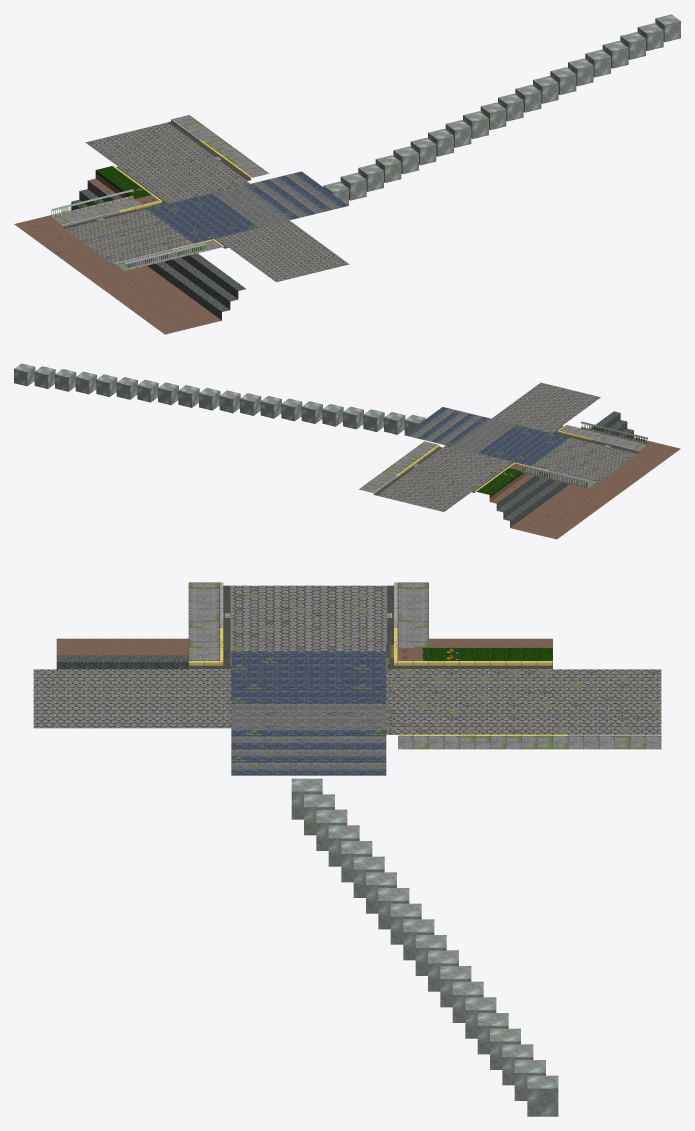
The picture shows the model from 3 angles, top to bottom: view 1: azimuth 30°, elevation 25°; view 2: azimuth 150°, elevation 25°; view 3: azimuth 270°, elevation 25°; orthographic projection. The views are drawn at different scales.
Visible parts, largest first — view 1: fance_Plane.000, Cube; view 2: fance_Plane.000, Cube; view 3: fance_Plane.000, Cube.
Boxes of the visible parts, bbox=[...] form: fance_Plane.000: bbox=[14, 115, 349, 334]; Cube: bbox=[323, 14, 680, 205]; fance_Plane.000: bbox=[359, 382, 680, 539]; Cube: bbox=[14, 363, 425, 434]; fance_Plane.000: bbox=[33, 582, 661, 775]; Cube: bbox=[291, 778, 558, 1116].
Size of the model in its own units: 242 by 16.76 by 122.
Materials: 4 (4 with a texture image).
